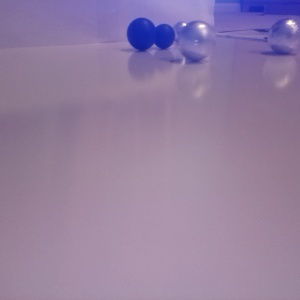alive_ball: (178, 21, 215, 61), (267, 19, 300, 53), (171, 21, 192, 45)
dead_ball: (126, 17, 157, 51), (153, 23, 175, 49)
